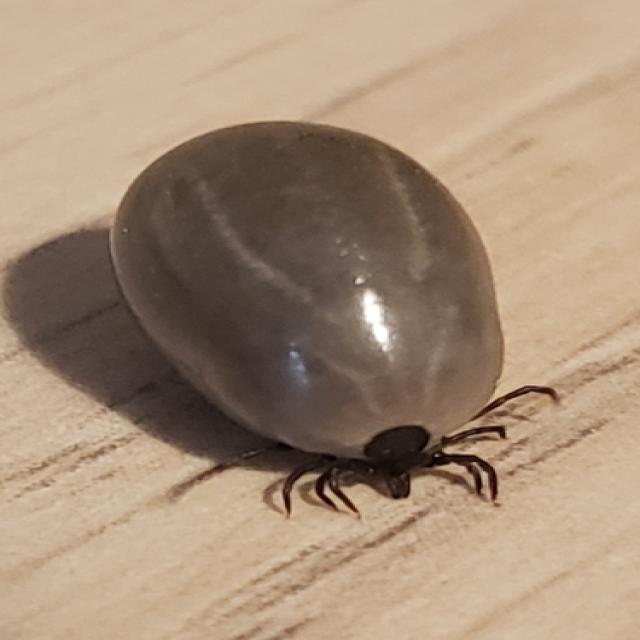Ixodes Ricinus-F-Fed: (109, 122, 561, 521)
